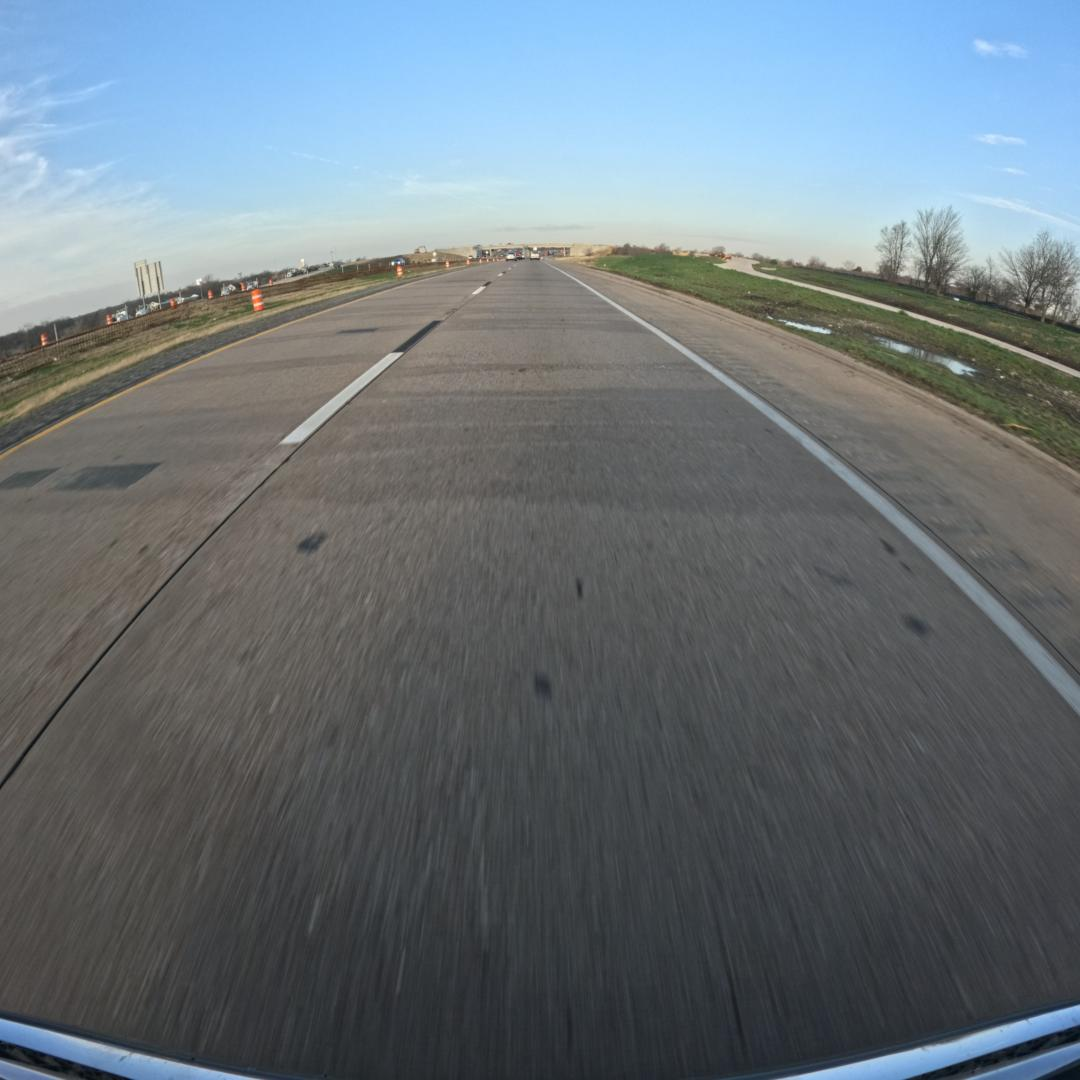lane0: (0, 264, 1080, 1077)
lane1: (0, 266, 501, 784)
